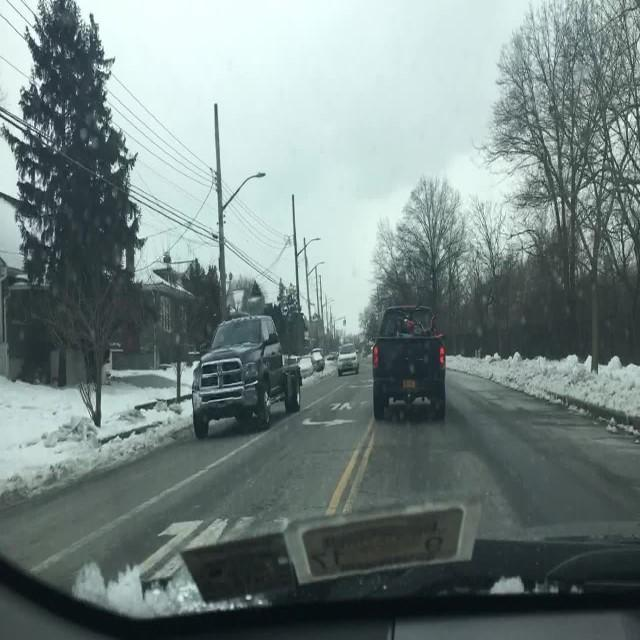normal: (190, 313, 308, 440), (368, 306, 448, 426)
